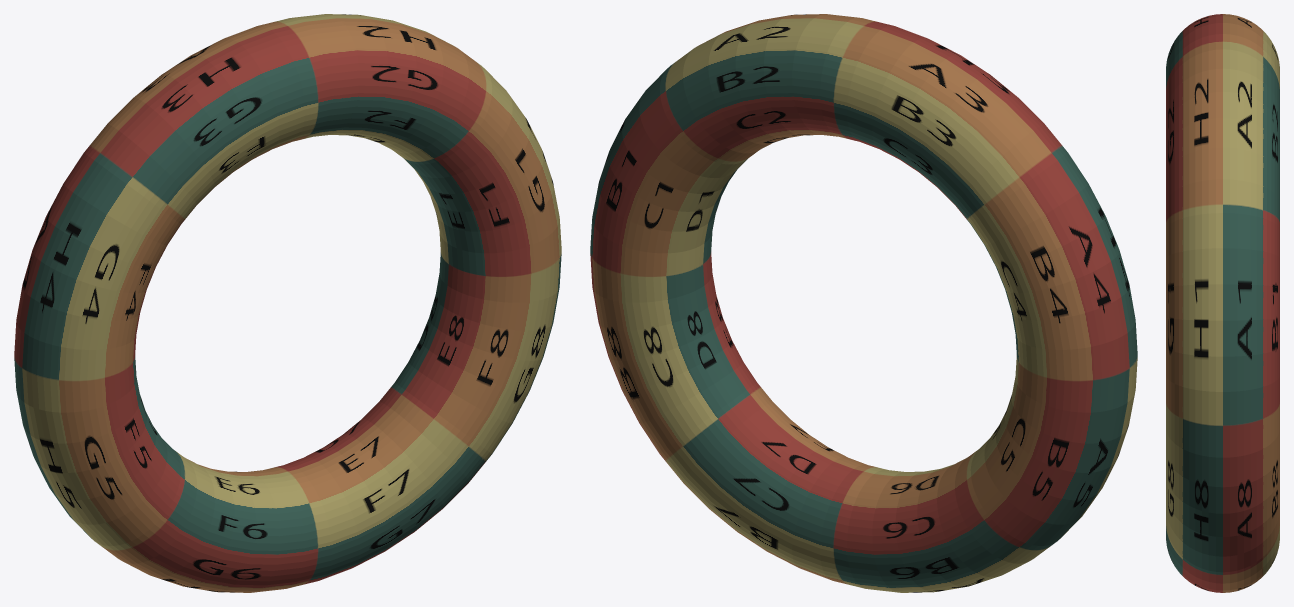
Rendered from texture_torus_R20_r14.glb.
3 renders of one model, left to right at view 1: azimuth 30°, elevation 25°; view 2: azimuth 150°, elevation 25°; view 3: azimuth 270°, elevation 25°, orthographic. The views are drawn at different scales.
Visible parts, largest first — view 1: world; view 2: world; view 3: world.
Boxes of the visible parts, x1,y1,x2,y2 form: world: (14,14,561,592); world: (590,14,1137,592); world: (1166,14,1279,592).
Size of the model in its own units: 29.07 by 29.01 by 5.72.
Materials: 1 (1 with a texture image).
